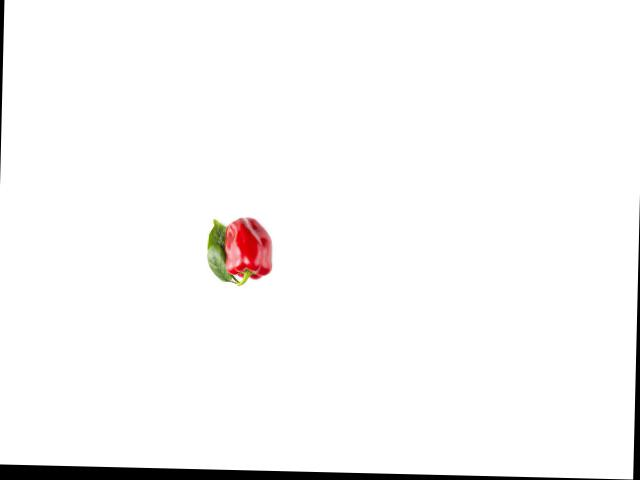bell_pepper: (220, 214, 279, 285)
